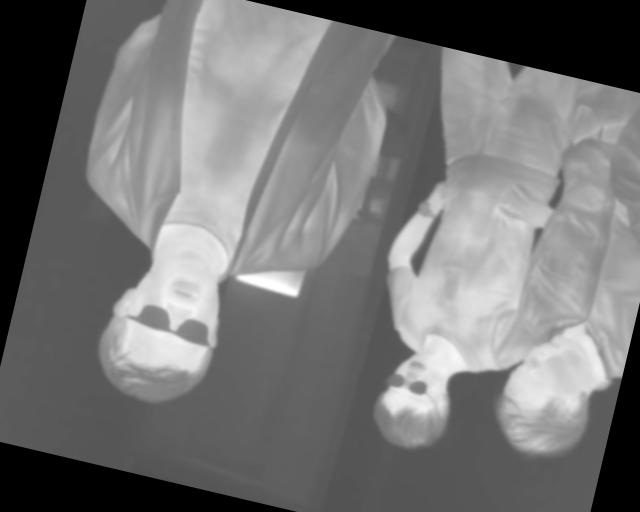face: (88, 240, 235, 417), (486, 321, 607, 470), (365, 344, 464, 459)
